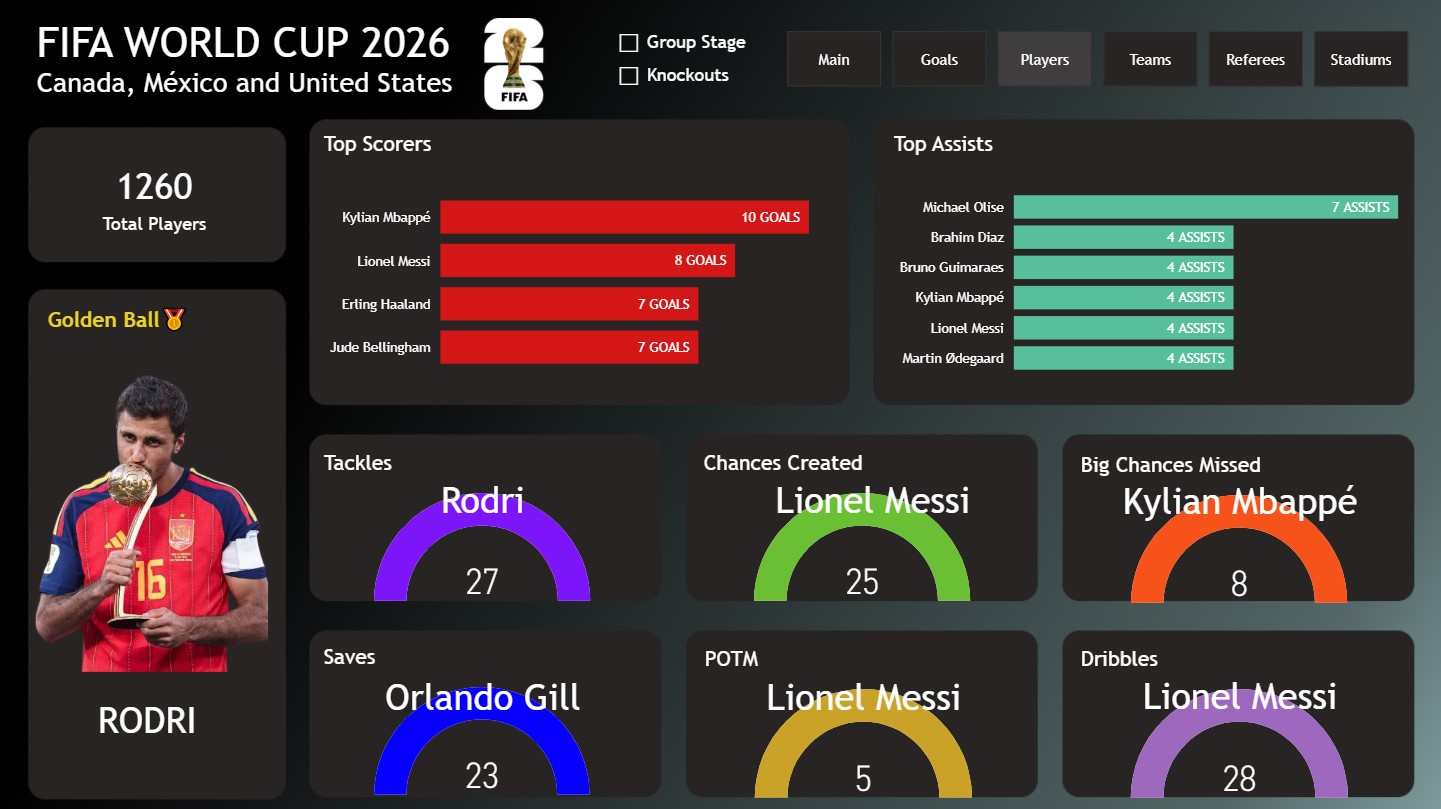

Layout of this report page (visuals, bound fields, positions):
{"tool":"powerbi","page":{"name":"Players","canvas":[1280,720],"ordinal":2},"visuals":[{"type":"textbox","box":[28.9,13,391.1,91.8],"z":0},{"type":"card","fields":{"Values":["Medidas.Total_players"]},"box":[28.5,118.4,219.8,115.6],"z":1000},{"type":"barChart","title":"Top Scorers","fields":{"Category":["attack_stats.player_name"],"Y":["Sum(attack_stats.goals)"]},"box":[282.5,118.4,438.1,226.9],"z":2000},{"type":"clusteredBarChart","title":"Top Assists","fields":{"Category":["attack_stats.player_name"],"Y":["Sum(attack_stats.assists)"]},"box":[784.8,118.4,455.2,226.9],"z":3000},{"type":"slicer","fields":{"Values":["matches.match_type"]},"box":[535.7,20,146.7,68.8],"z":4000},{"type":"gauge","title":"Tackles","fields":{"MaxValue":["Sum(defencestats.tackles)"],"Y":["Sum(defencestats.tackles)"]},"box":[282.5,399.6,289.7,138.4],"z":5000},{"type":"gauge","title":"Saves","fields":{"MaxValue":["Sum(defencestats.gk_saves)"],"Y":["Sum(defencestats.gk_saves)"]},"box":[282.5,570.8,289,138],"z":6000},{"type":"card","fields":{"Values":["Medidas.Top Dribbler"]},"box":[278.3,592.2,299.7,49.9],"z":7000},{"type":"gauge","title":"Big Chances Missed","fields":{"MaxValue":["Sum(attack_stats.Big_Chances_Missed)"],"Y":["Sum(attack_stats.Big_Chances_Missed)"]},"box":[950.4,401,289.7,138.4],"z":8000},{"type":"gauge","title":"Chances Created","fields":{"MaxValue":["Sum(attack_stats.Chances_Created)"],"Y":["Sum(attack_stats.Chances_Created)"]},"box":[617.9,399.6,289.7,138.4],"z":9000},{"type":"gauge","title":"Dribbles","fields":{"MaxValue":["Sum(attack_stats.dribbles)"],"Y":["Sum(attack_stats.dribbles)"]},"box":[950,572.5,290,138.8],"z":10000},{"type":"card","fields":{"Values":["Medidas.Top Tackles"]},"box":[296.8,399.6,262.6,87],"z":11000},{"type":"card","fields":{"Values":["Medidas.Top 1 Chances Created"]},"box":[640.7,401,262.6,84.2],"z":12000},{"type":"card","fields":{"Values":["Medidas.Top 1 Big Chances Missed"]},"box":[964.6,409.5,261.2,68.8],"z":13000},{"type":"card","fields":{"Values":["Medidas.Top 1 Dribbles"]},"box":[964.6,589.3,261.1,52.8],"z":14000},{"type":"gauge","title":"POTM","fields":{"MaxValue":["Sum(players.POTM Ganhos)"],"Y":["Sum(players.POTM Ganhos)"]},"box":[618.8,572.5,290,138.8],"z":15000},{"type":"card","fields":{"Values":["Medidas.Top 1 POTM"]},"box":[613.6,586.5,299.7,59.9],"z":16000},{"type":"image","box":[373.9,18.6,162.3,80.6],"z":17000},{"type":"textbox","box":[38.5,266.8,152.7,44.2],"z":18000},{"type":"image","box":[28.5,289.7,209.8,332.5],"z":19000},{"type":"textbox","box":[82.8,613.6,111.3,57.1],"z":20000},{"type":"pageNavigator","box":[696.4,29.9,550.7,49.9],"z":21000}]}

Visuals, with their boxes in screenshot pixels (x1, y1, x2, y2), scaled from the page's 1280x720 canvas onto the 1441x809 screenshot:
textbox: 33 15 473 118
card - Medidas.Total_players: 32 133 280 263
"Top Scorers" barChart: 318 133 811 388
"Top Assists" clusteredBarChart: 884 133 1396 388
slicer - matches.match_type: 603 22 768 100
"Tackles" gauge: 318 449 644 605
"Saves" gauge: 318 641 643 796
card - Medidas.Top Dribbler: 313 665 651 721
"Big Chances Missed" gauge: 1070 451 1396 606
"Chances Created" gauge: 696 449 1022 605
"Dribbles" gauge: 1069 643 1396 799
card - Medidas.Top Tackles: 334 449 630 547
card - Medidas.Top 1 Chances Created: 721 451 1017 545
card - Medidas.Top 1 Big Chances Missed: 1086 460 1380 537
card - Medidas.Top 1 Dribbles: 1086 662 1380 721
"POTM" gauge: 697 643 1023 799
card - Medidas.Top 1 POTM: 691 659 1028 726
image: 421 21 604 111
textbox: 43 300 215 349
image: 32 326 268 699
textbox: 93 689 219 754
pageNavigator: 784 34 1404 90
